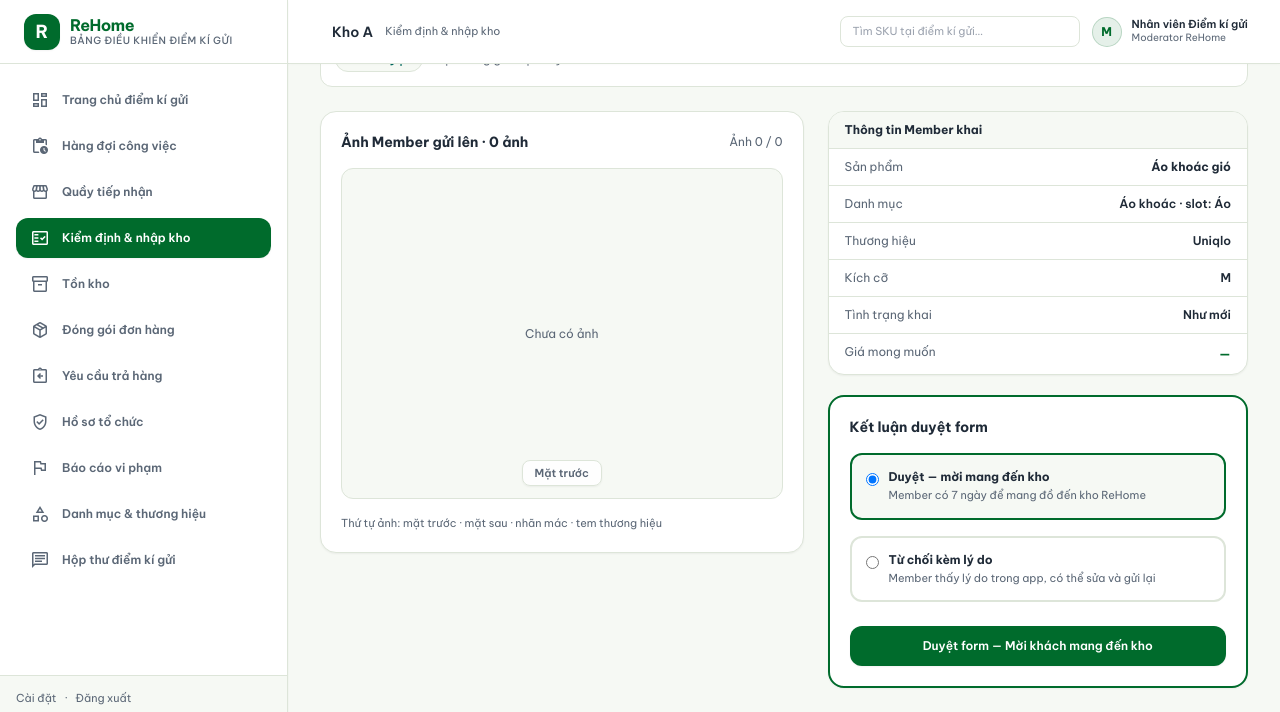
Test case: ConsignmentDetailPage component behaviors › renders form details and approves form successfully with feedback
(page scrolled)
Expected: the text "Chờ duyệt" is shown, x1=335 y1=46 x2=423 y2=72
Click the button "Duyệt form — Mời khách mang đến kho" at (1038, 646), box x1=850 y1=626 x2=1226 y2=666
(page scrolled)
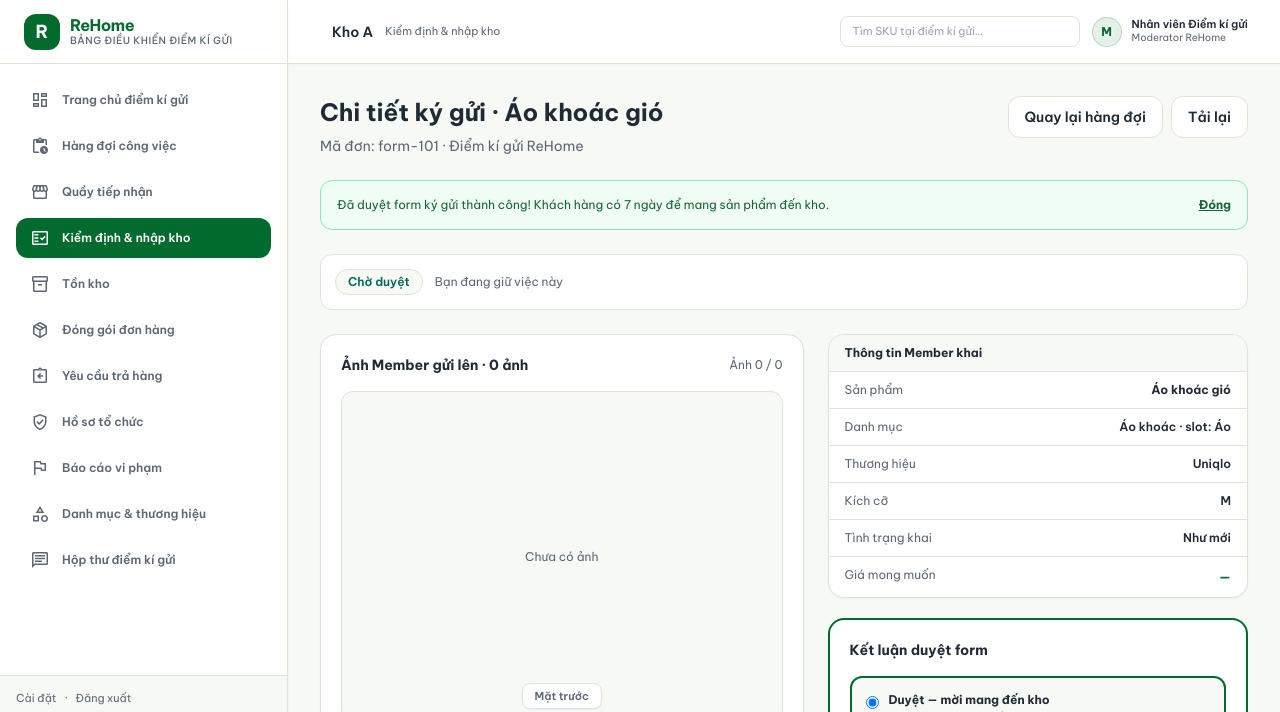
Result: the text "Đã duyệt form ký gửi thành công" is shown at x1=337 y1=197 x2=829 y2=212
